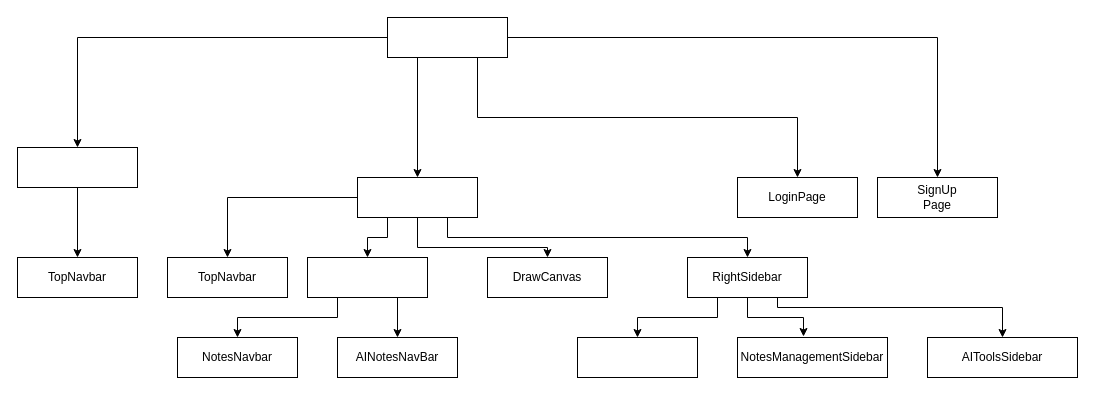
Image size: 1095x395. Some labels were removed from this diagram. Here are the shapes that lost their labels. From the top down, the box of each, then its label:
(386, 16, 508, 58): App
(16, 146, 138, 188): WelcomePage
(356, 176, 478, 218): HomePage
(306, 256, 428, 298): LeftSidebar
(576, 336, 698, 378): DrawToolsSidebar
